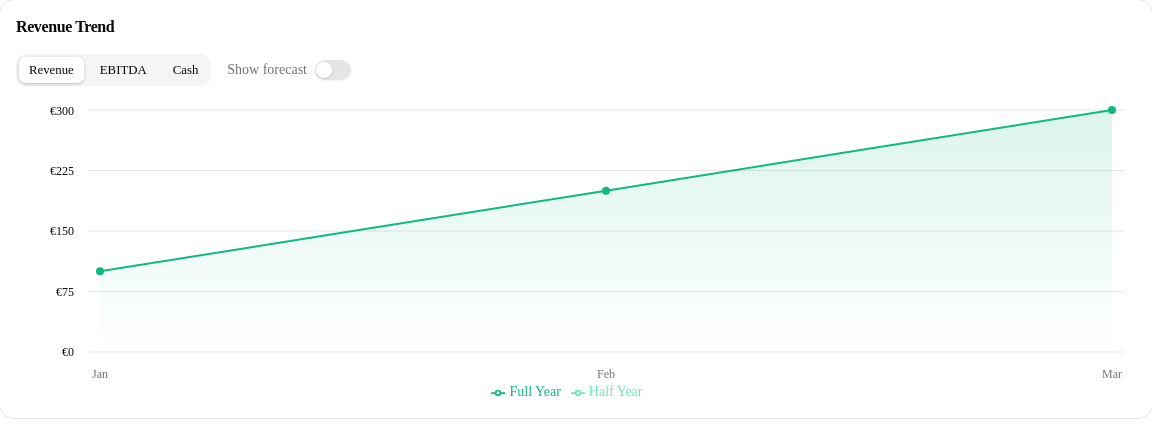
RevenueChart › swaps to Cash and back to Revenue
What coordinates should you click on to do the following:
click the button "Cash"
I would click on:
 (186, 70)
Its box is [162,56,209,84].
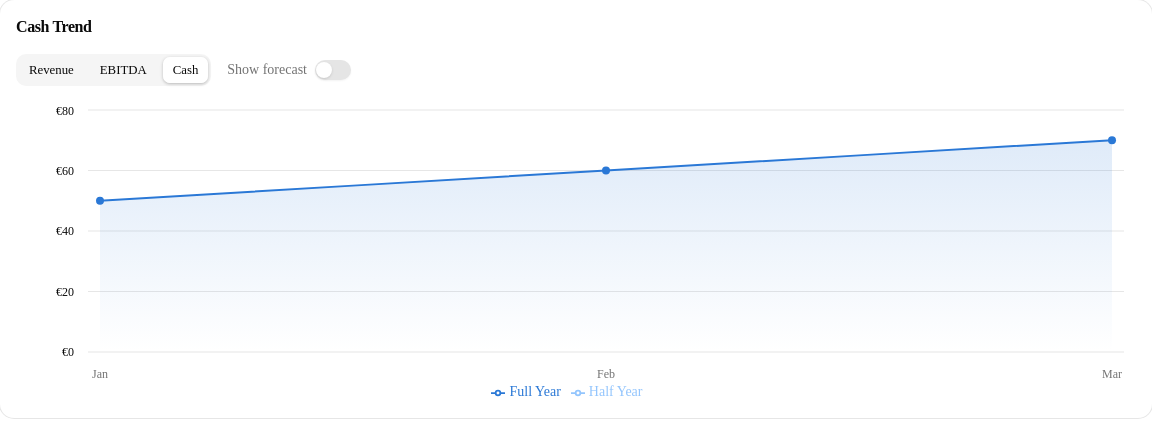
Check: the text "Cash Trend" is shown, box [16,18,92,35]
What coordinates should you click on to do the following:
click the button "Revenue"
I would click on:
 (51, 70)
Its box is [18,56,85,84].
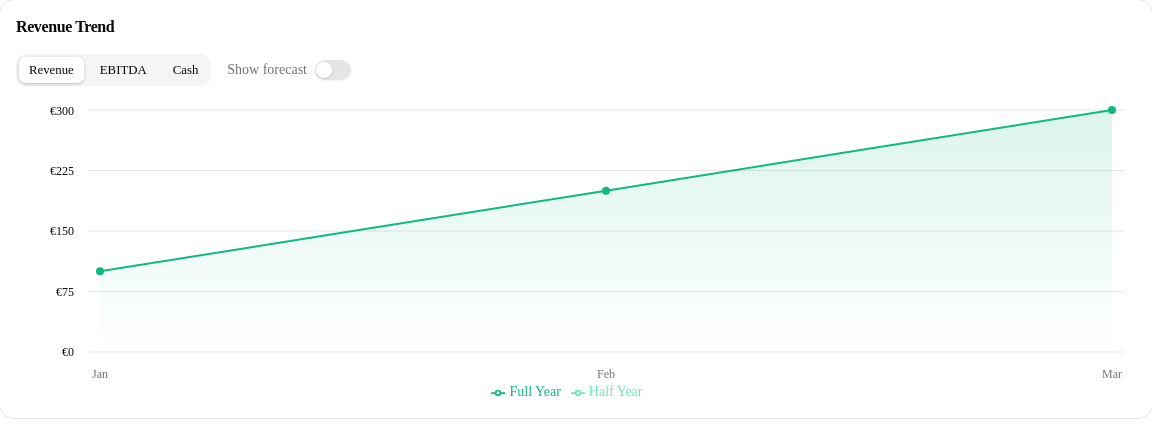
Check: the text "Revenue Trend" is shown, box [16,18,114,35]
